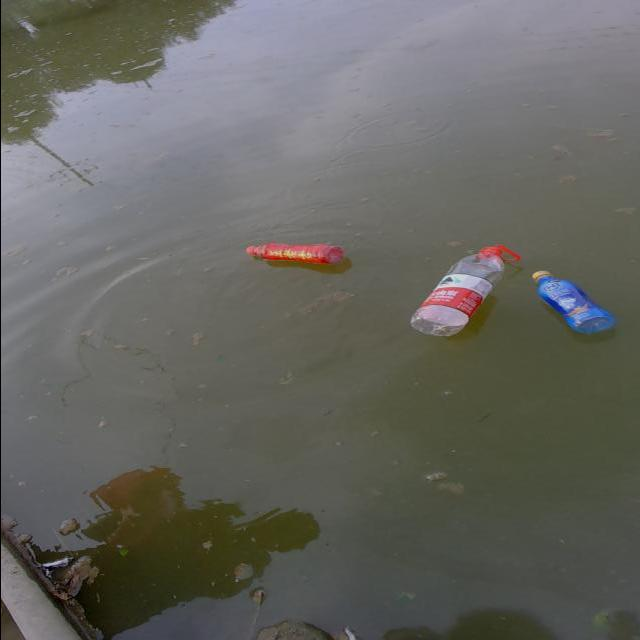bottle: (397, 233, 524, 345), (524, 259, 620, 350), (234, 236, 350, 276)
